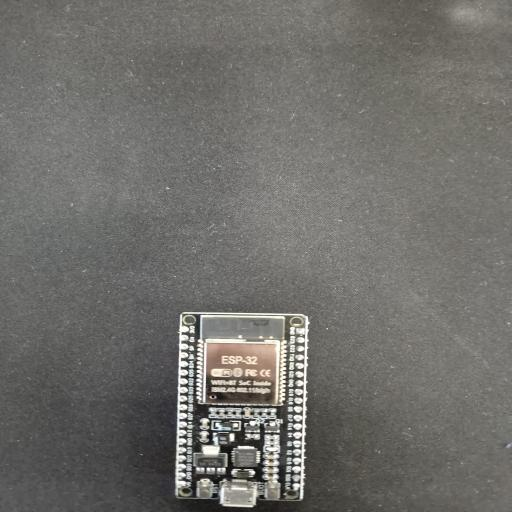esp32-dev: (176, 313, 308, 507)
